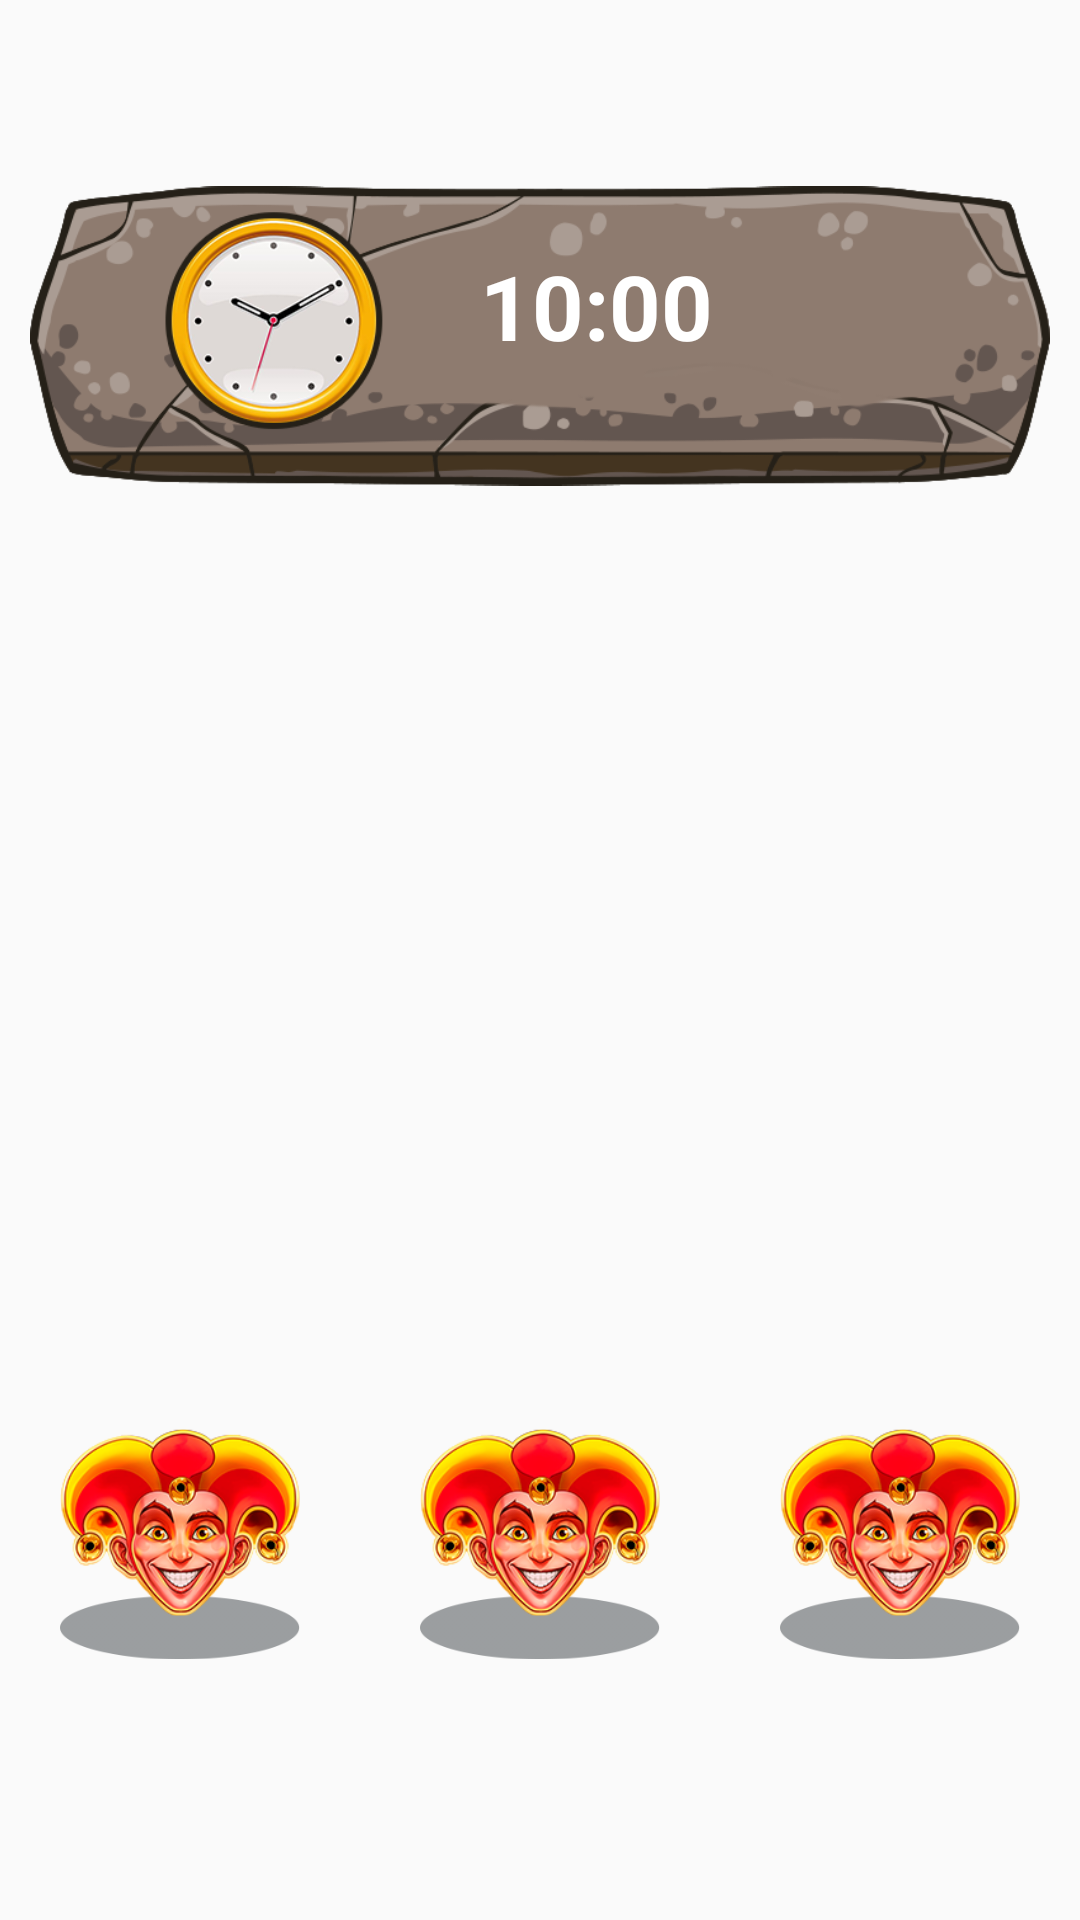

Screen size 1080x1920. Icon name, then its box in pixels as (x1, y1, x2, y2):
joker mini: (61, 1429, 300, 1620), (421, 1429, 660, 1620), (781, 1429, 1020, 1620)
